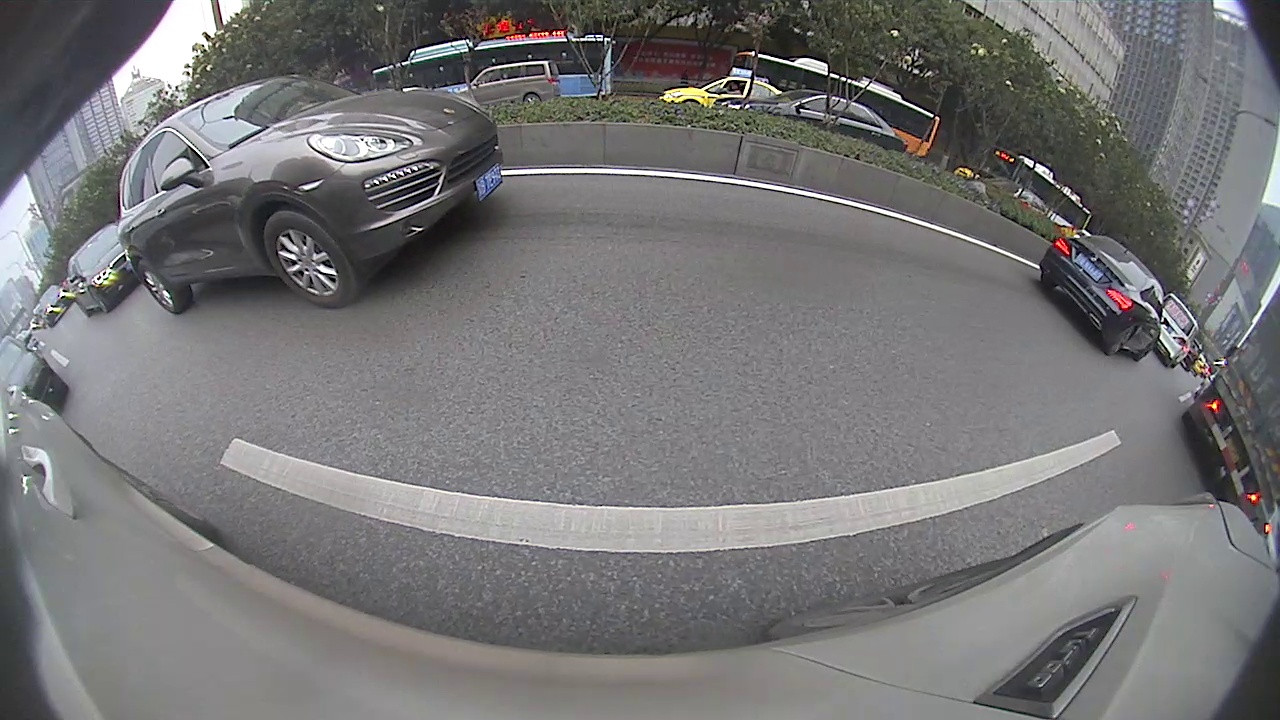car: (117, 74, 505, 313), (1036, 233, 1164, 361), (65, 222, 139, 318), (454, 61, 560, 113), (1162, 292, 1198, 367)
front: (263, 210, 354, 308)
rear: (130, 257, 184, 313), (1105, 323, 1139, 357), (523, 92, 540, 108)
